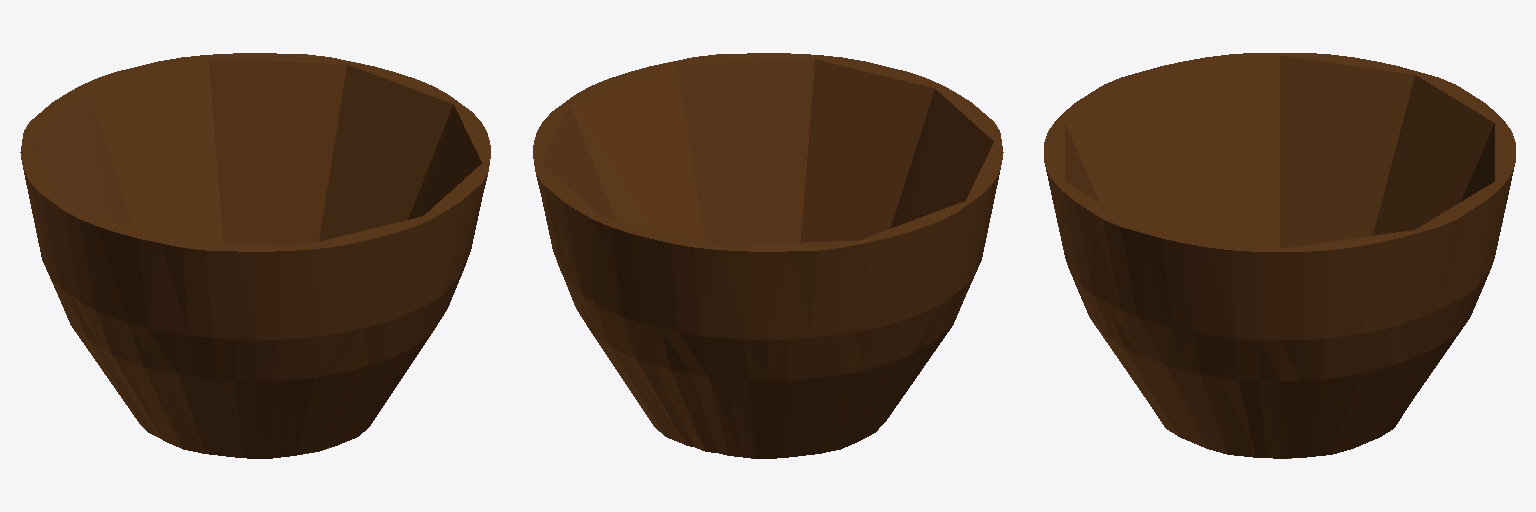
URDF robot description (bowl.urdf):
<?xml version="0.0" ?>
<robot name="bowl.urdf">
  <link name="baseLink">
    <contact>
      <friction_anchor/>
      <lateral_friction value="1.0"/>
    </contact>
    <inertial>
      <origin rpy="0 0 0" xyz="0 0 0"/>
       <mass value="0.30333964999999996"/>
       <inertia ixx="1" ixy="0" ixz="0" iyy="1" iyz="0" izz="1"/>
    </inertial>
    <visual>
      <origin rpy="0 0 0" xyz="0 0 0"/>
      <geometry>
        <mesh filename="bowl_new.obj" scale="1 1 1"/>
      </geometry>
       <material name="brown">
        <color rgba="0.4 0.25 0.125 1"/>
      </material>
    </visual>
    <collision>
      <origin rpy="0 0 0" xyz="0 0 0"/>
      <geometry>
        <mesh filename="bowl_new.obj" scale="1 1 1"/>
      </geometry>
    </collision>
  </link>
</robot>

--- What the picture shows (computed from the rendered views, not written in the file) ---
3 views of the same robot in one strip: view 1: azimuth 30°, elevation 25°; view 2: azimuth 150°, elevation 25°; view 3: azimuth 270°, elevation 25° (orthographic).
Robot: bowl.urdf — 1 links, 0 joints (none); root link baseLink; default pose: all joints at 0.
Links seen in each view (by area): view 1: baseLink; view 2: baseLink; view 3: baseLink.
Boxes of the visible links, left/top/right/bottom form: baseLink: left=20, top=53, right=490, bottom=458; baseLink: left=533, top=53, right=1003, bottom=458; baseLink: left=1044, top=53, right=1515, bottom=458.
Bounding box of the posed robot: 0.136 × 0.136 × 0.081 m (x, y, z).
1 mesh visuals loaded from 1 distinct referenced files (1 OBJ).